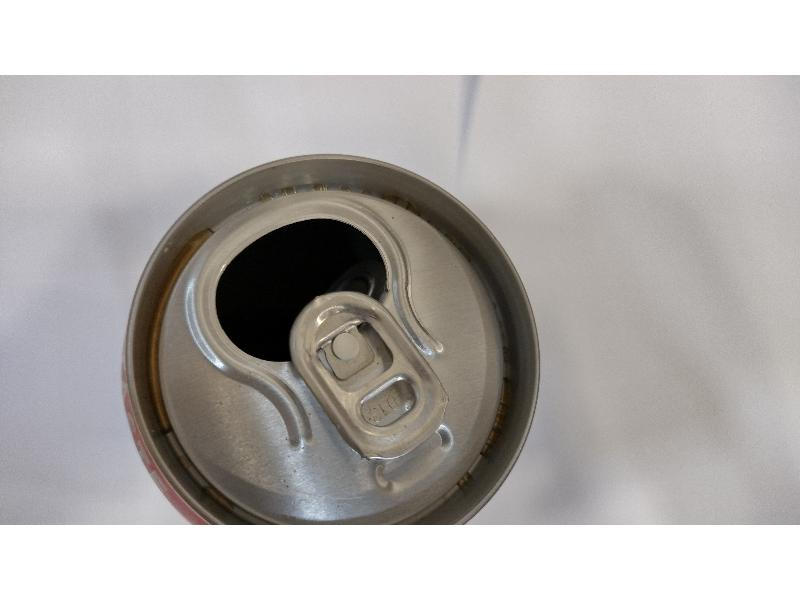can: (130, 161, 540, 523)
